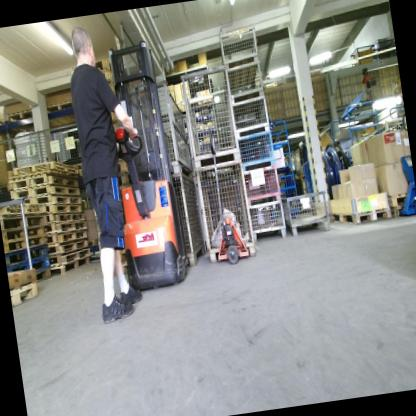pallet: (14, 176, 82, 203), (328, 203, 392, 231), (9, 166, 79, 191), (11, 156, 79, 181), (32, 189, 83, 209), (6, 245, 51, 266), (1, 212, 48, 232), (10, 283, 41, 312), (2, 226, 45, 243), (50, 236, 90, 254), (3, 106, 36, 127), (49, 207, 86, 225), (4, 237, 49, 251), (8, 260, 51, 274), (44, 200, 82, 215), (55, 257, 91, 272), (385, 189, 413, 208), (52, 249, 92, 262), (50, 228, 89, 241), (43, 100, 77, 114), (50, 220, 87, 231), (390, 206, 412, 221), (36, 268, 52, 282), (0, 115, 5, 133)
pallet_truck: (88, 37, 193, 293), (199, 127, 251, 265), (390, 155, 416, 220)
stillage: (122, 75, 195, 181), (193, 159, 258, 264), (179, 62, 239, 172), (167, 171, 210, 273), (281, 188, 334, 239), (214, 24, 260, 71), (234, 125, 277, 173), (244, 200, 288, 246), (223, 59, 265, 103), (228, 97, 272, 139), (240, 167, 283, 206)
